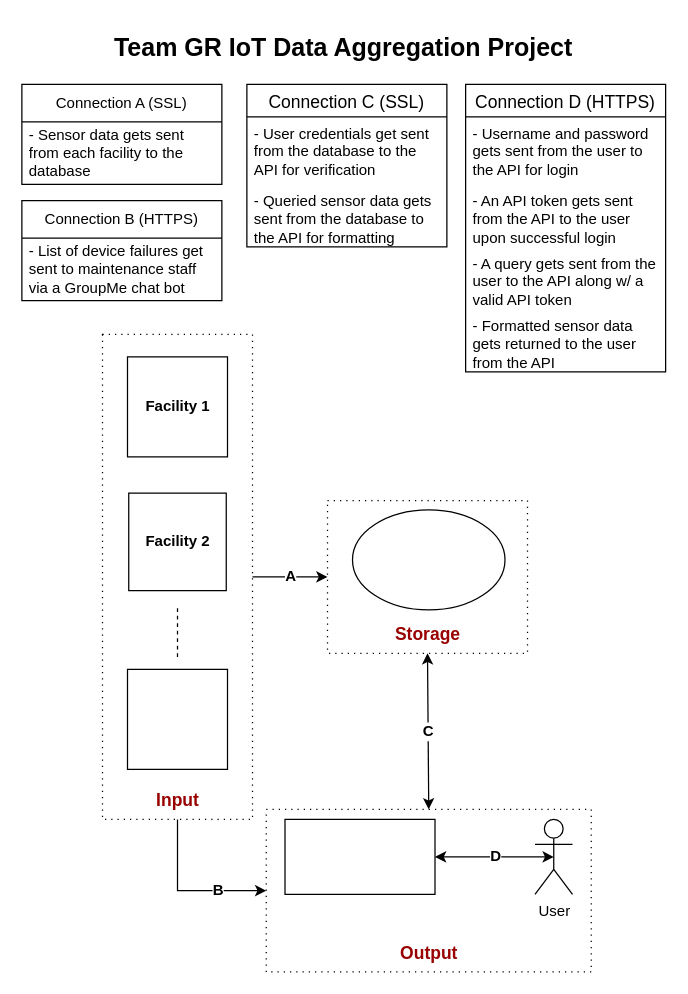
Some shapes in this 688 by 994 pixel diagram are drawn without their labels. Here are the shapes that lost their labels. From the top down, the centre of each, then its label:
At (x=428, y=559): "Database".
At (x=177, y=718): "Facility n".
At (x=359, y=856): "Database API".
